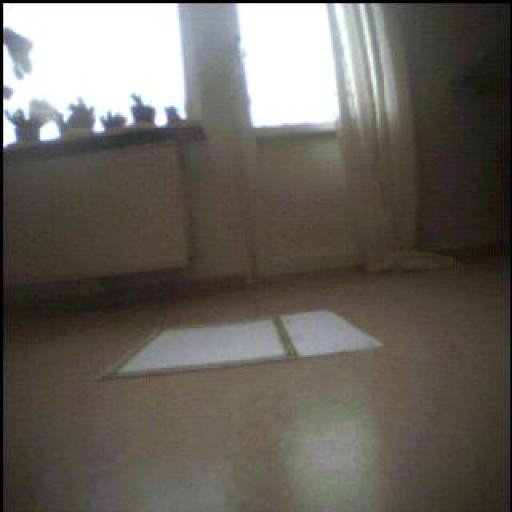Pad: (108, 312, 382, 379)
